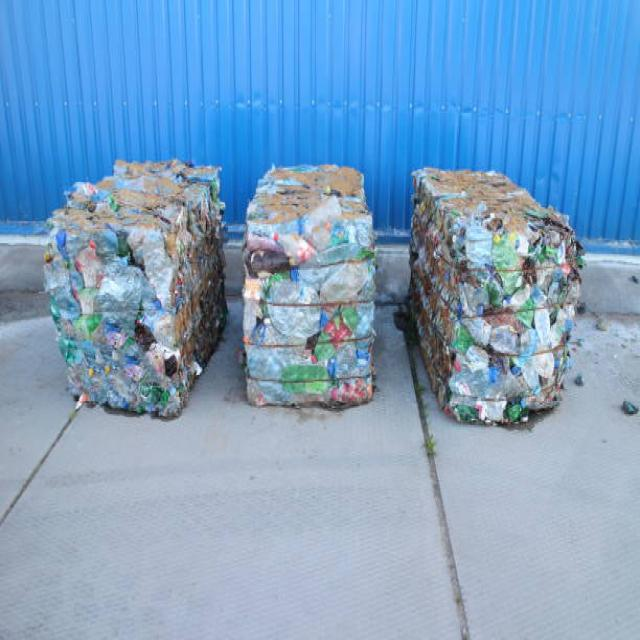plastic: (71, 171, 570, 414)
